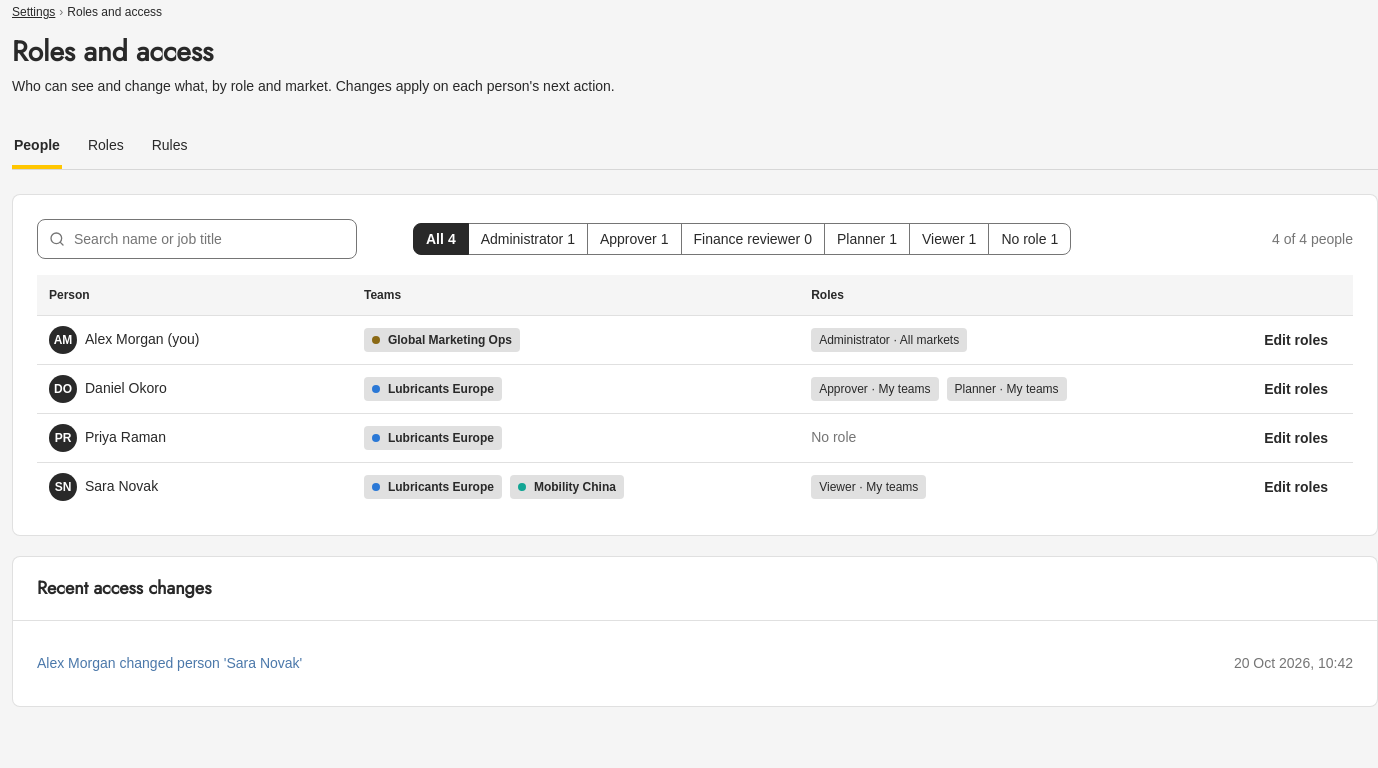
Test case: AccessPage: People tab (feature 014, US3) › lists everyone with teams and roles, with a search and a role filter with No role (US3-1)
Expected: the heading "Roles and access" is shown, [12,32,213,72]
Expected: the navigation bar named "Breadcrumb" shows "Settings", [12,0,55,24]
Click the button "No role 1" at {"x": 1030, "y": 239}, box [988,223,1071,255]
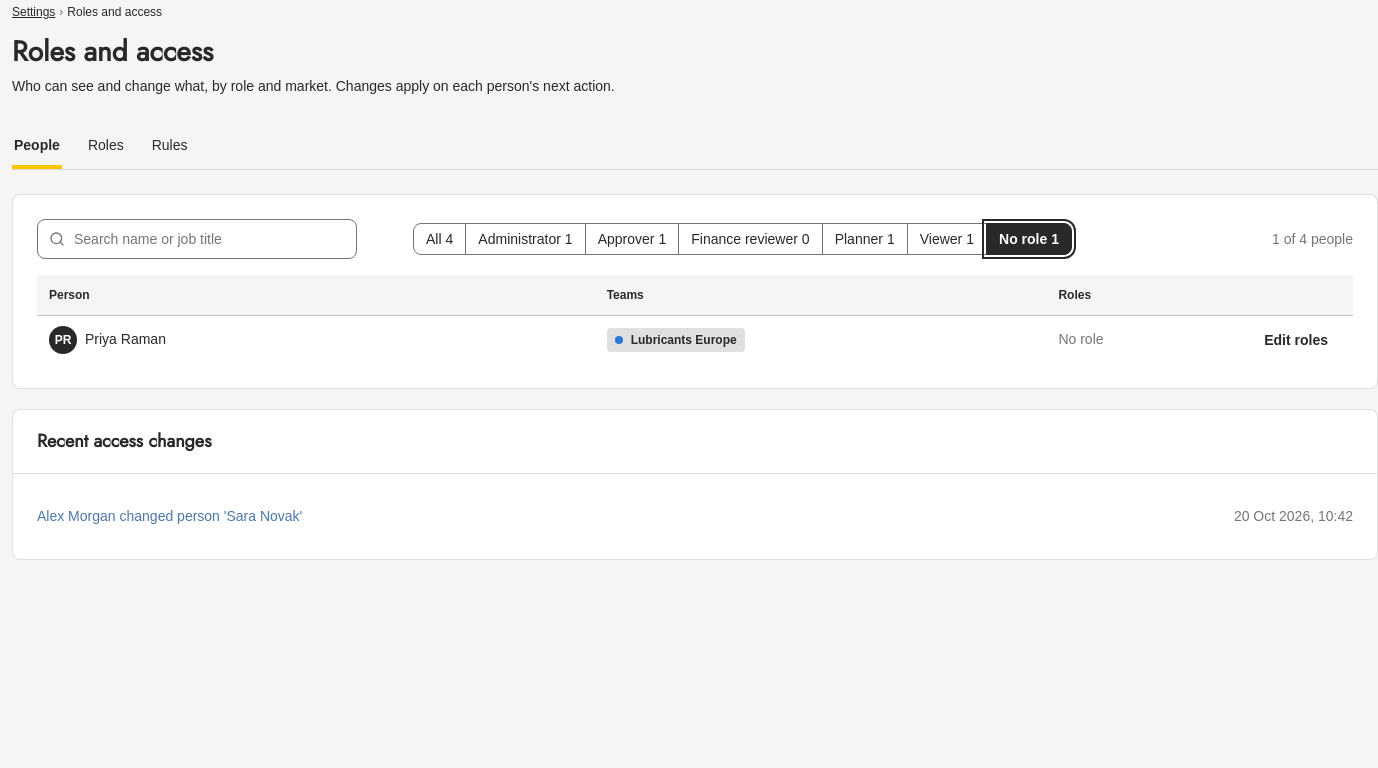
Expected: the text "1 of 4 people" is shown, [1272,228,1353,250]
Click the button "Planner 1" at {"x": 865, "y": 239}, box [822,223,908,255]
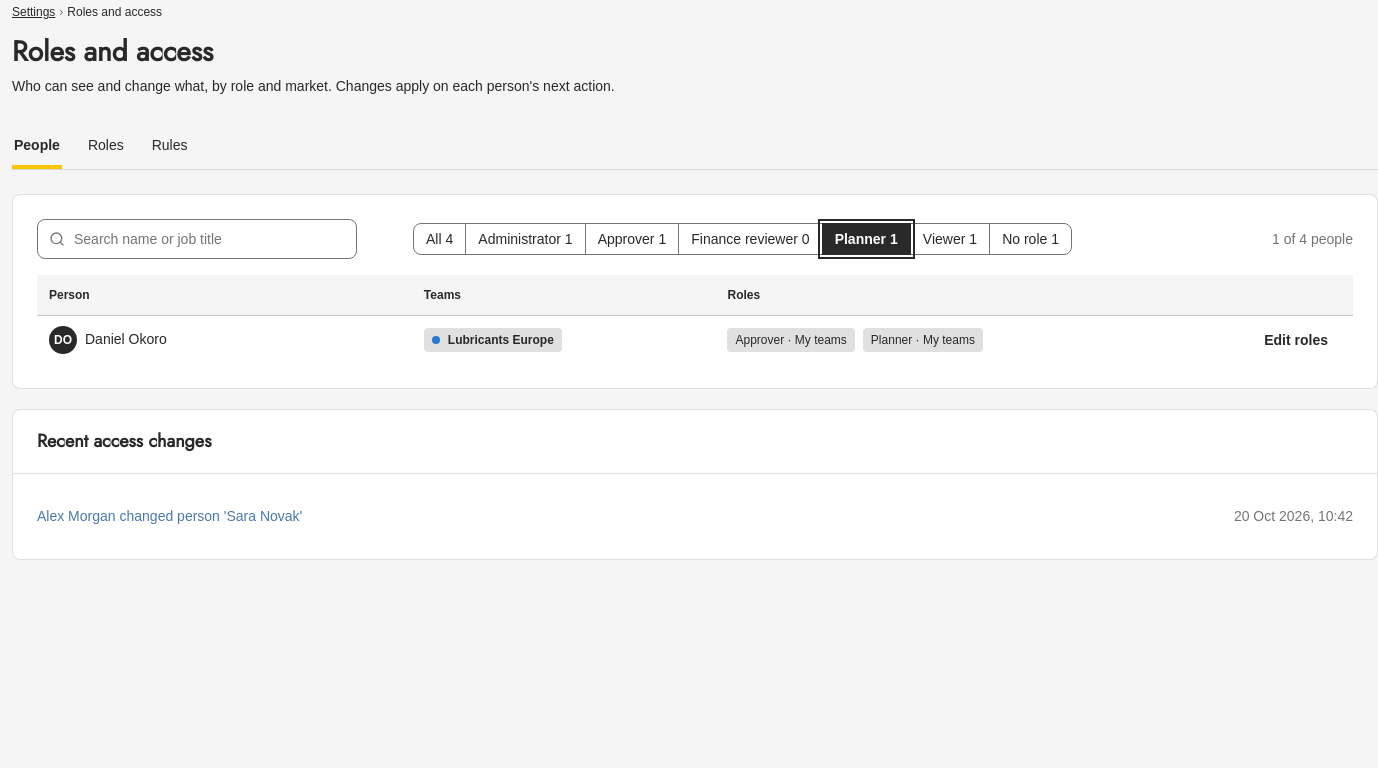
Click the button "All 4" at {"x": 440, "y": 239}, box [413,223,466,255]
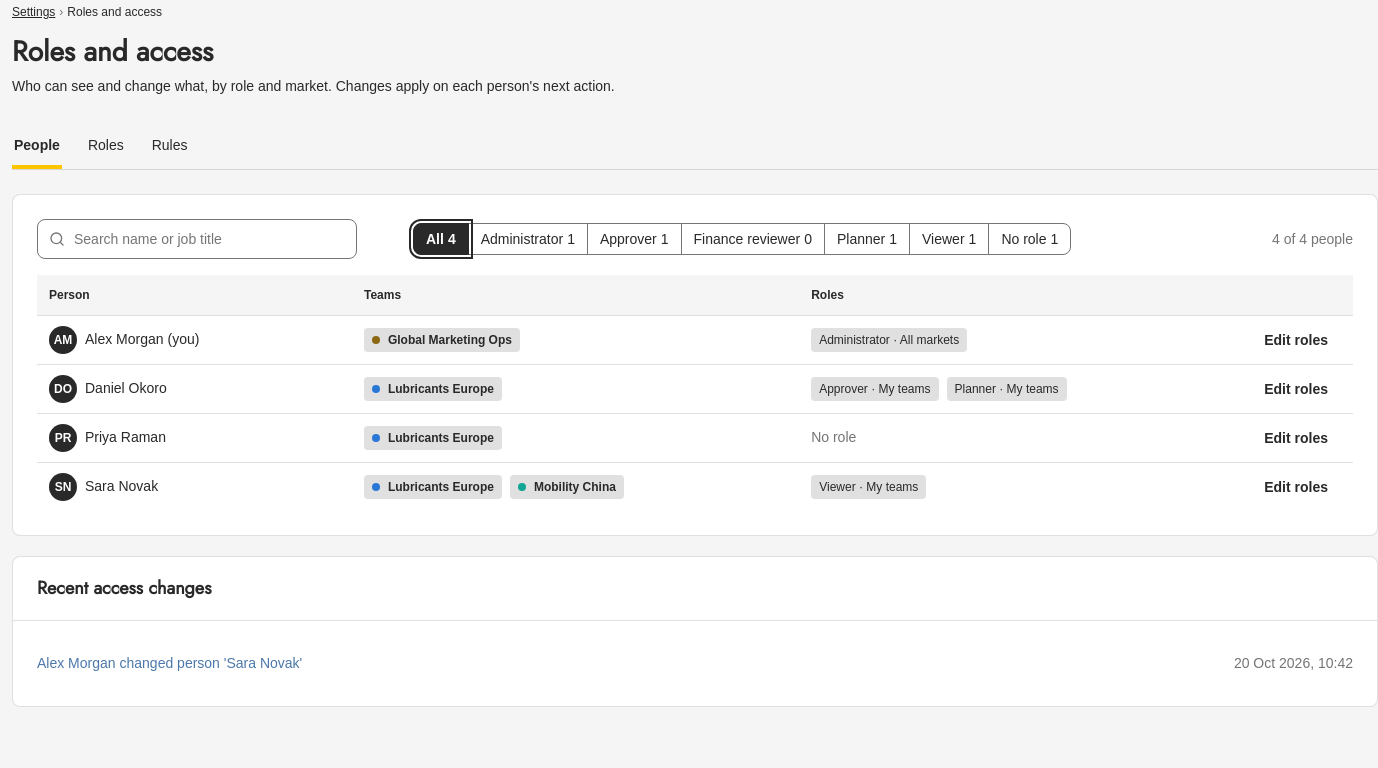
Type "finance" into the search field labelled "Search name or job title" at {"x": 197, "y": 239}, box [37,219,357,259]
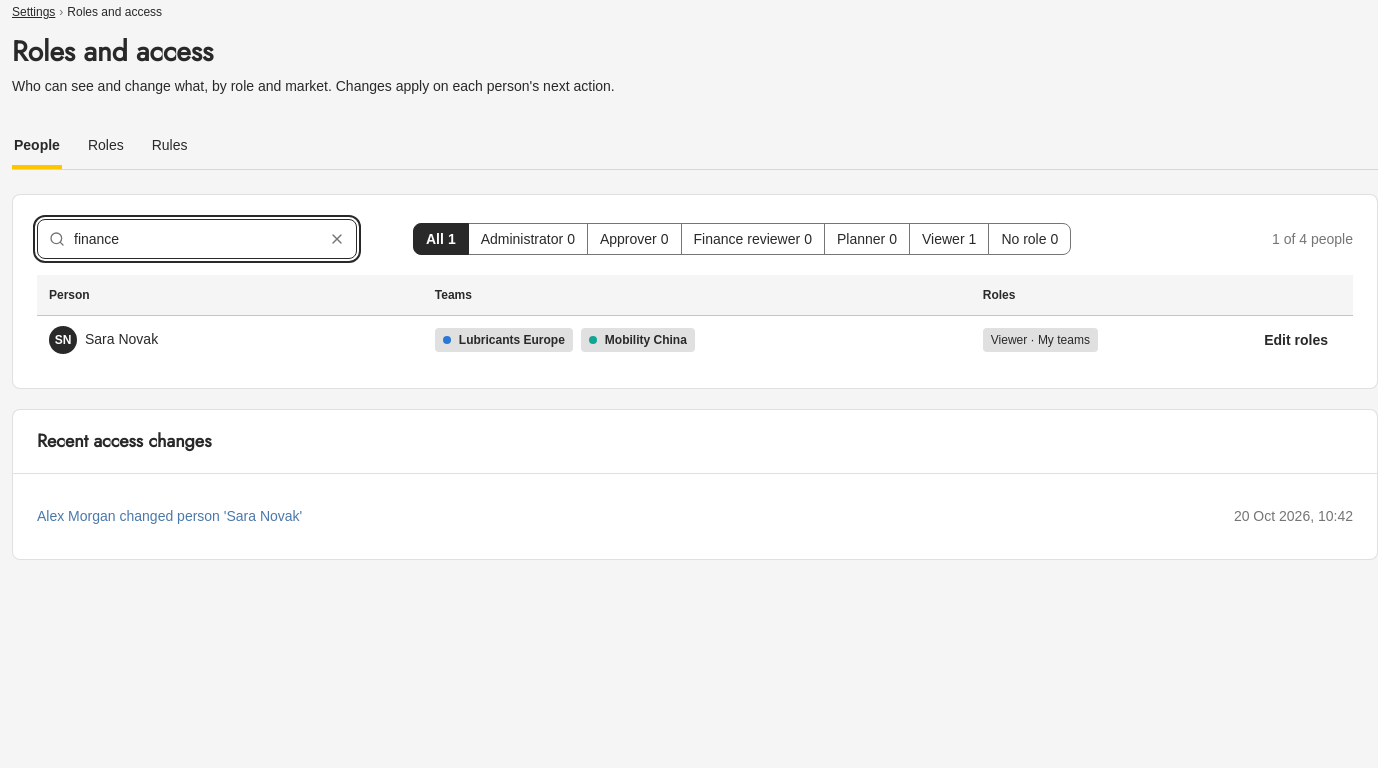
Expected: the row "Sara Novak" is shown, [37,315,1353,364]
Expected: the text "1 of 4 people" is shown, [1272,228,1353,250]
